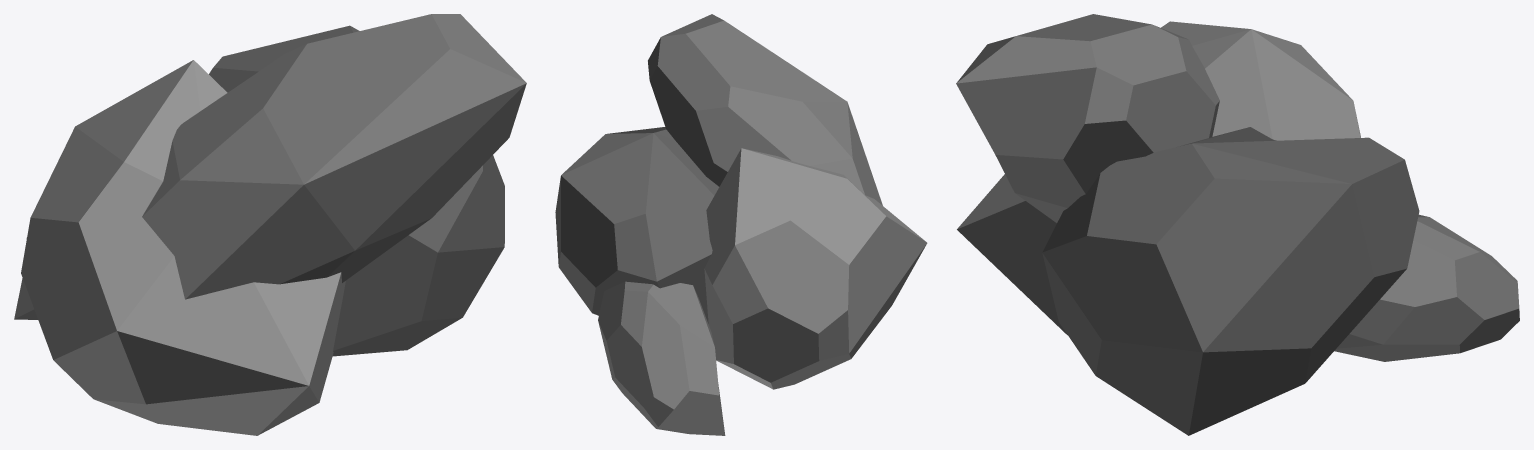
Rendered from Rock_Grey (2).fbx.
3 renders of one model, left to right at view 1: azimuth 30°, elevation 25°; view 2: azimuth 150°, elevation 25°; view 3: azimuth 270°, elevation 25°, orthographic. The views are drawn at different scales.
Visible parts, largest first — view 1: Rock3_008, Rock2_007, Rock1_010, Rock3_009; view 2: Rock2_007, Rock3_008, Rock1_010, Rock3_009; view 3: Rock1_010, Rock3_008, Rock2_007, Rock3_009.
Part boxes in pixels (x1=…): Rock3_008: x1=142, y1=14, x2=526, y2=299; Rock2_007: x1=21, y1=60, x2=345, y2=435; Rock1_010: x1=209, y1=25, x2=504, y2=356; Rock3_009: x1=14, y1=238, x2=37, y2=319; Rock2_007: x1=704, y1=148, x2=927, y2=389; Rock3_008: x1=648, y1=14, x2=882, y2=205; Rock1_010: x1=555, y1=127, x2=719, y2=323; Rock3_009: x1=598, y1=281, x2=725, y2=435; Rock1_010: x1=1042, y1=127, x2=1419, y2=435; Rock3_008: x1=956, y1=14, x2=1219, y2=222; Rock2_007: x1=957, y1=21, x2=1360, y2=335; Rock3_009: x1=1334, y1=214, x2=1519, y2=361.
Bounding box in the file's own units: 140 × 117 × 147.
